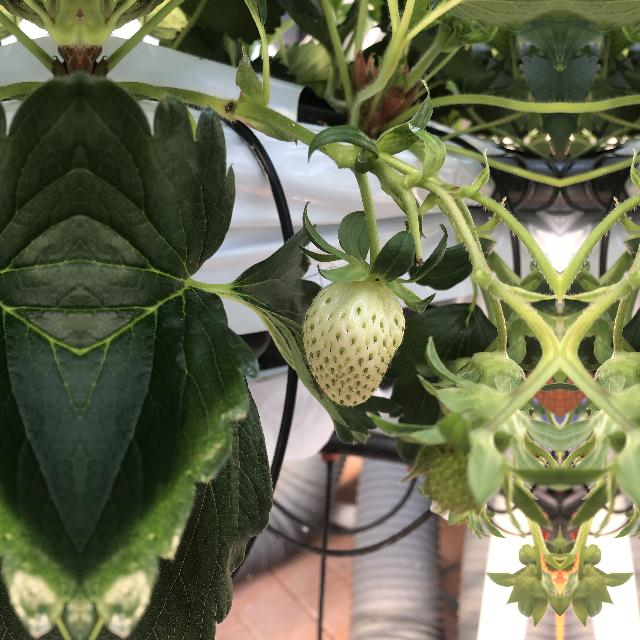Health_25: (303, 272, 402, 410)
